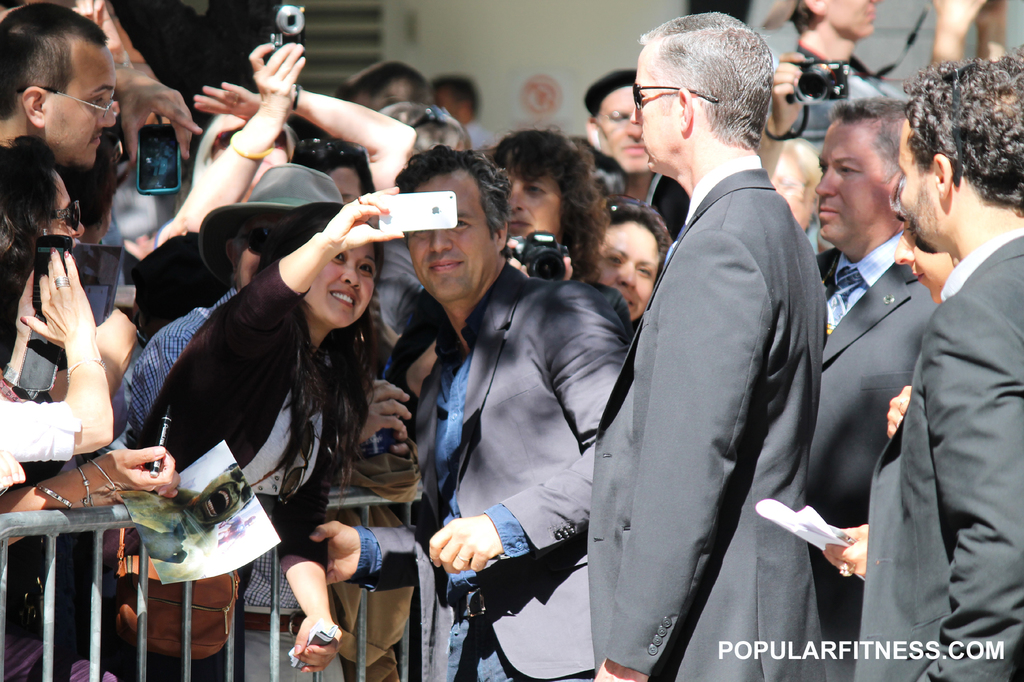Human_hand: (15, 247, 95, 372), (122, 74, 203, 170), (321, 185, 409, 257), (107, 442, 179, 502), (426, 517, 498, 576), (248, 43, 307, 114), (359, 377, 414, 446), (308, 519, 364, 585), (771, 47, 809, 134), (292, 611, 343, 674), (819, 525, 868, 585), (190, 80, 262, 118), (508, 257, 575, 282), (884, 387, 913, 443), (12, 271, 34, 344), (929, 0, 984, 29), (589, 658, 648, 681), (976, 0, 1010, 26), (388, 425, 413, 456)
